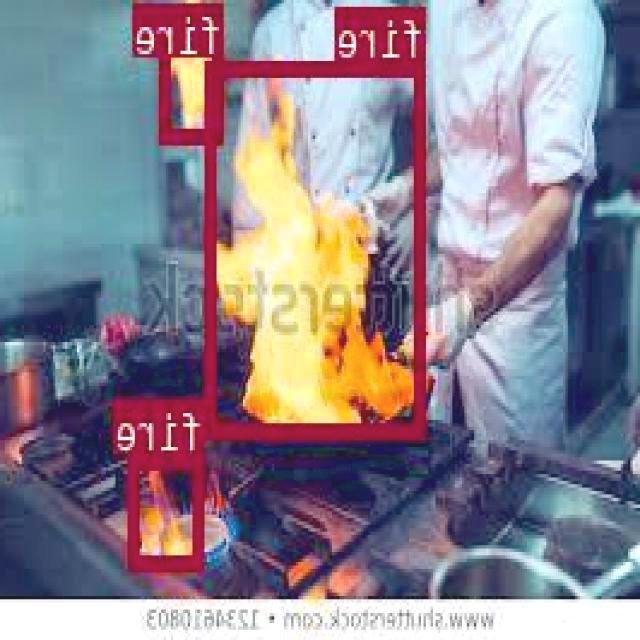fire: (208, 59, 427, 436), (130, 451, 207, 566), (163, 2, 224, 140)
